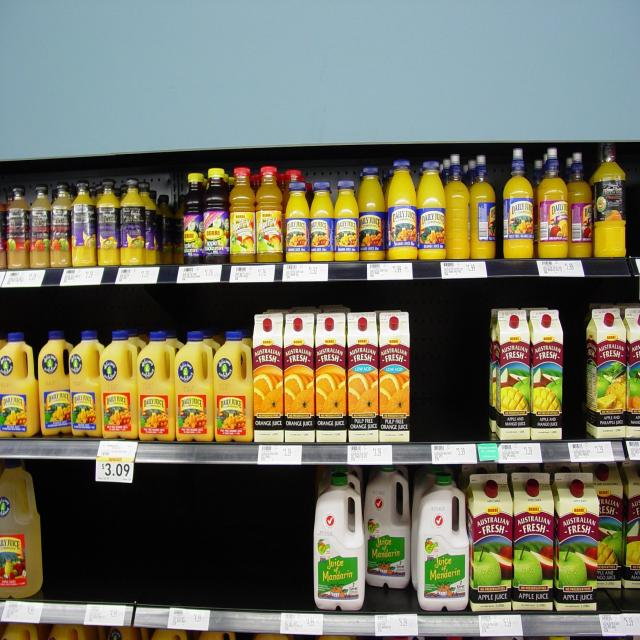void: (40, 478, 307, 603), (415, 314, 487, 441), (563, 322, 587, 433), (162, 189, 179, 263), (627, 170, 640, 258)
